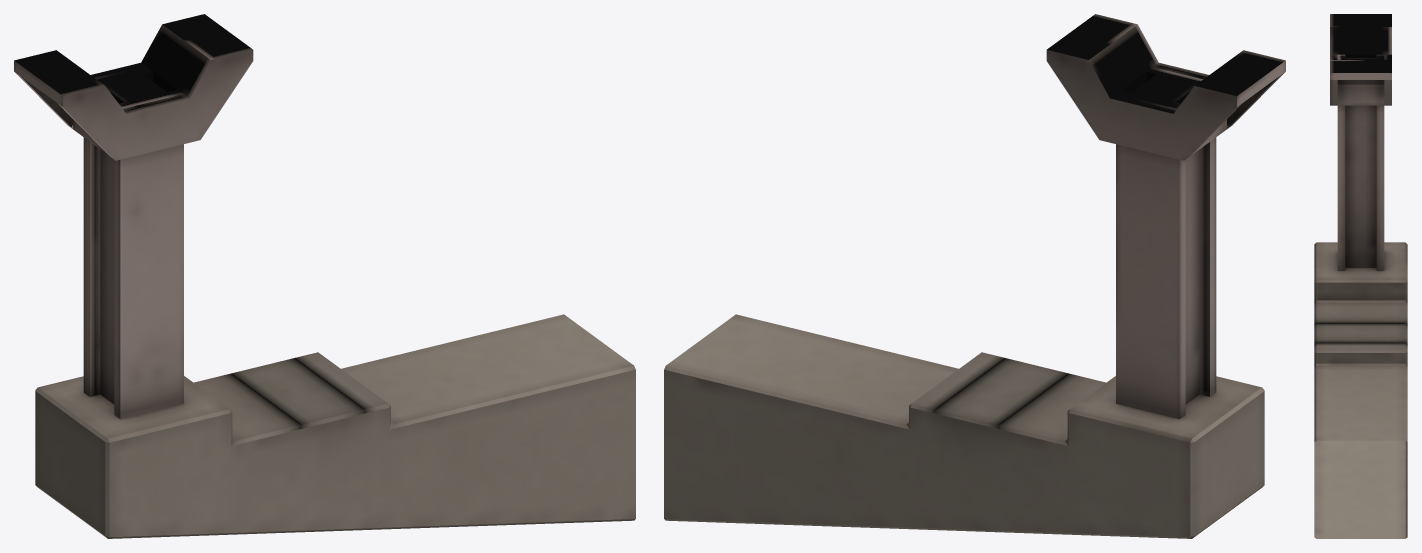
The model's file is short_beam_track_a_walkway_support.obj.
The picture shows the model from 3 angles, left to right: view 1: azimuth 30°, elevation 25°; view 2: azimuth 150°, elevation 25°; view 3: azimuth 270°, elevation 25°; orthographic projection. The views are drawn at different scales.
Visible parts, largest first — view 1: short_beam_track_a_walkway_support; view 2: short_beam_track_a_walkway_support; view 3: short_beam_track_a_walkway_support.
Part boxes in pixels (left/top/right/bottom): short_beam_track_a_walkway_support: left=14, top=14, right=635, bottom=538; short_beam_track_a_walkway_support: left=664, top=14, right=1285, bottom=538; short_beam_track_a_walkway_support: left=1314, top=14, right=1407, bottom=538.
Size of the model in its own units: 1.66 by 1.56 by 0.375.
Materials: 2 (2 with a texture image).
